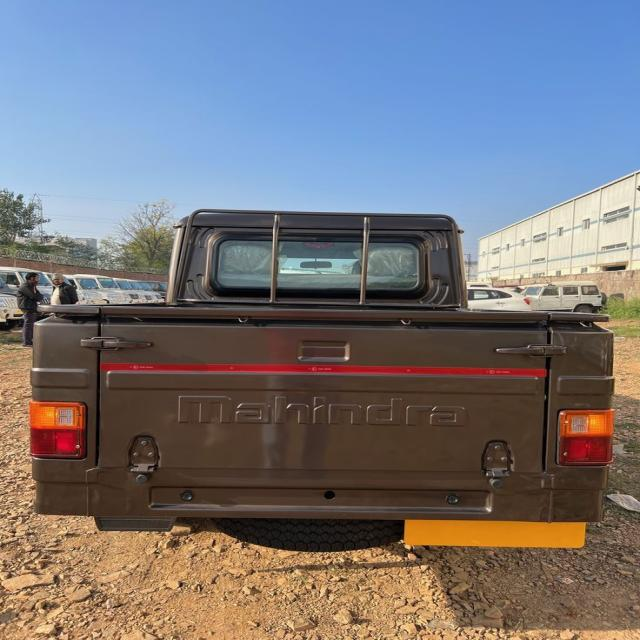light_vehicle: (38, 209, 628, 532)
